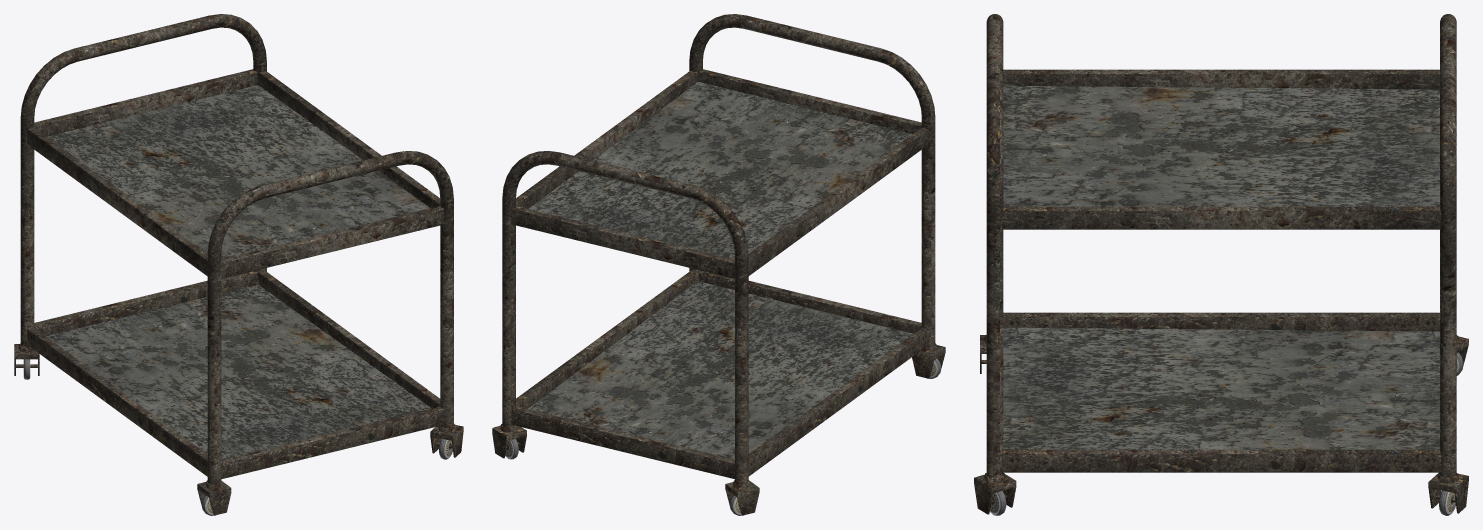
Rendered from WheelShelf_LOD1.FBX.
3 renders of one model, left to right at view 1: azimuth 30°, elevation 25°; view 2: azimuth 150°, elevation 25°; view 3: azimuth 270°, elevation 25°, orthographic. The views are drawn at different scales.
Parts seen in each view (by area): view 1: WheelShelf_LOD1; view 2: WheelShelf_LOD1; view 3: WheelShelf_LOD1.
Part boxes in pixels (x1,y1,x2,y2): WheelShelf_LOD1: [14, 14, 463, 515]; WheelShelf_LOD1: [492, 14, 945, 515]; WheelShelf_LOD1: [974, 14, 1468, 515].
Size of the model in its own units: 87.13 by 101 by 117.
